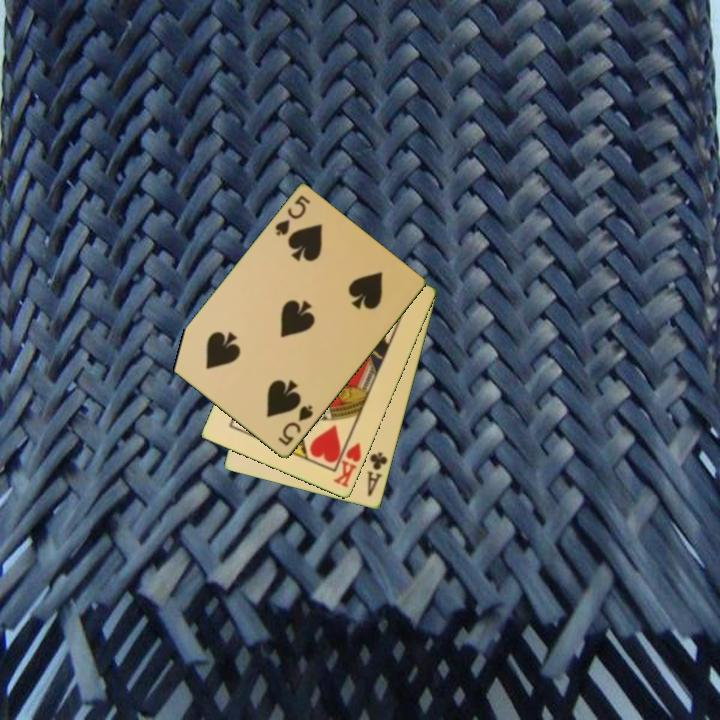5s: (274, 401, 316, 449), (271, 192, 313, 240)
Ac: (363, 448, 391, 500)
Kh: (330, 433, 364, 491)
